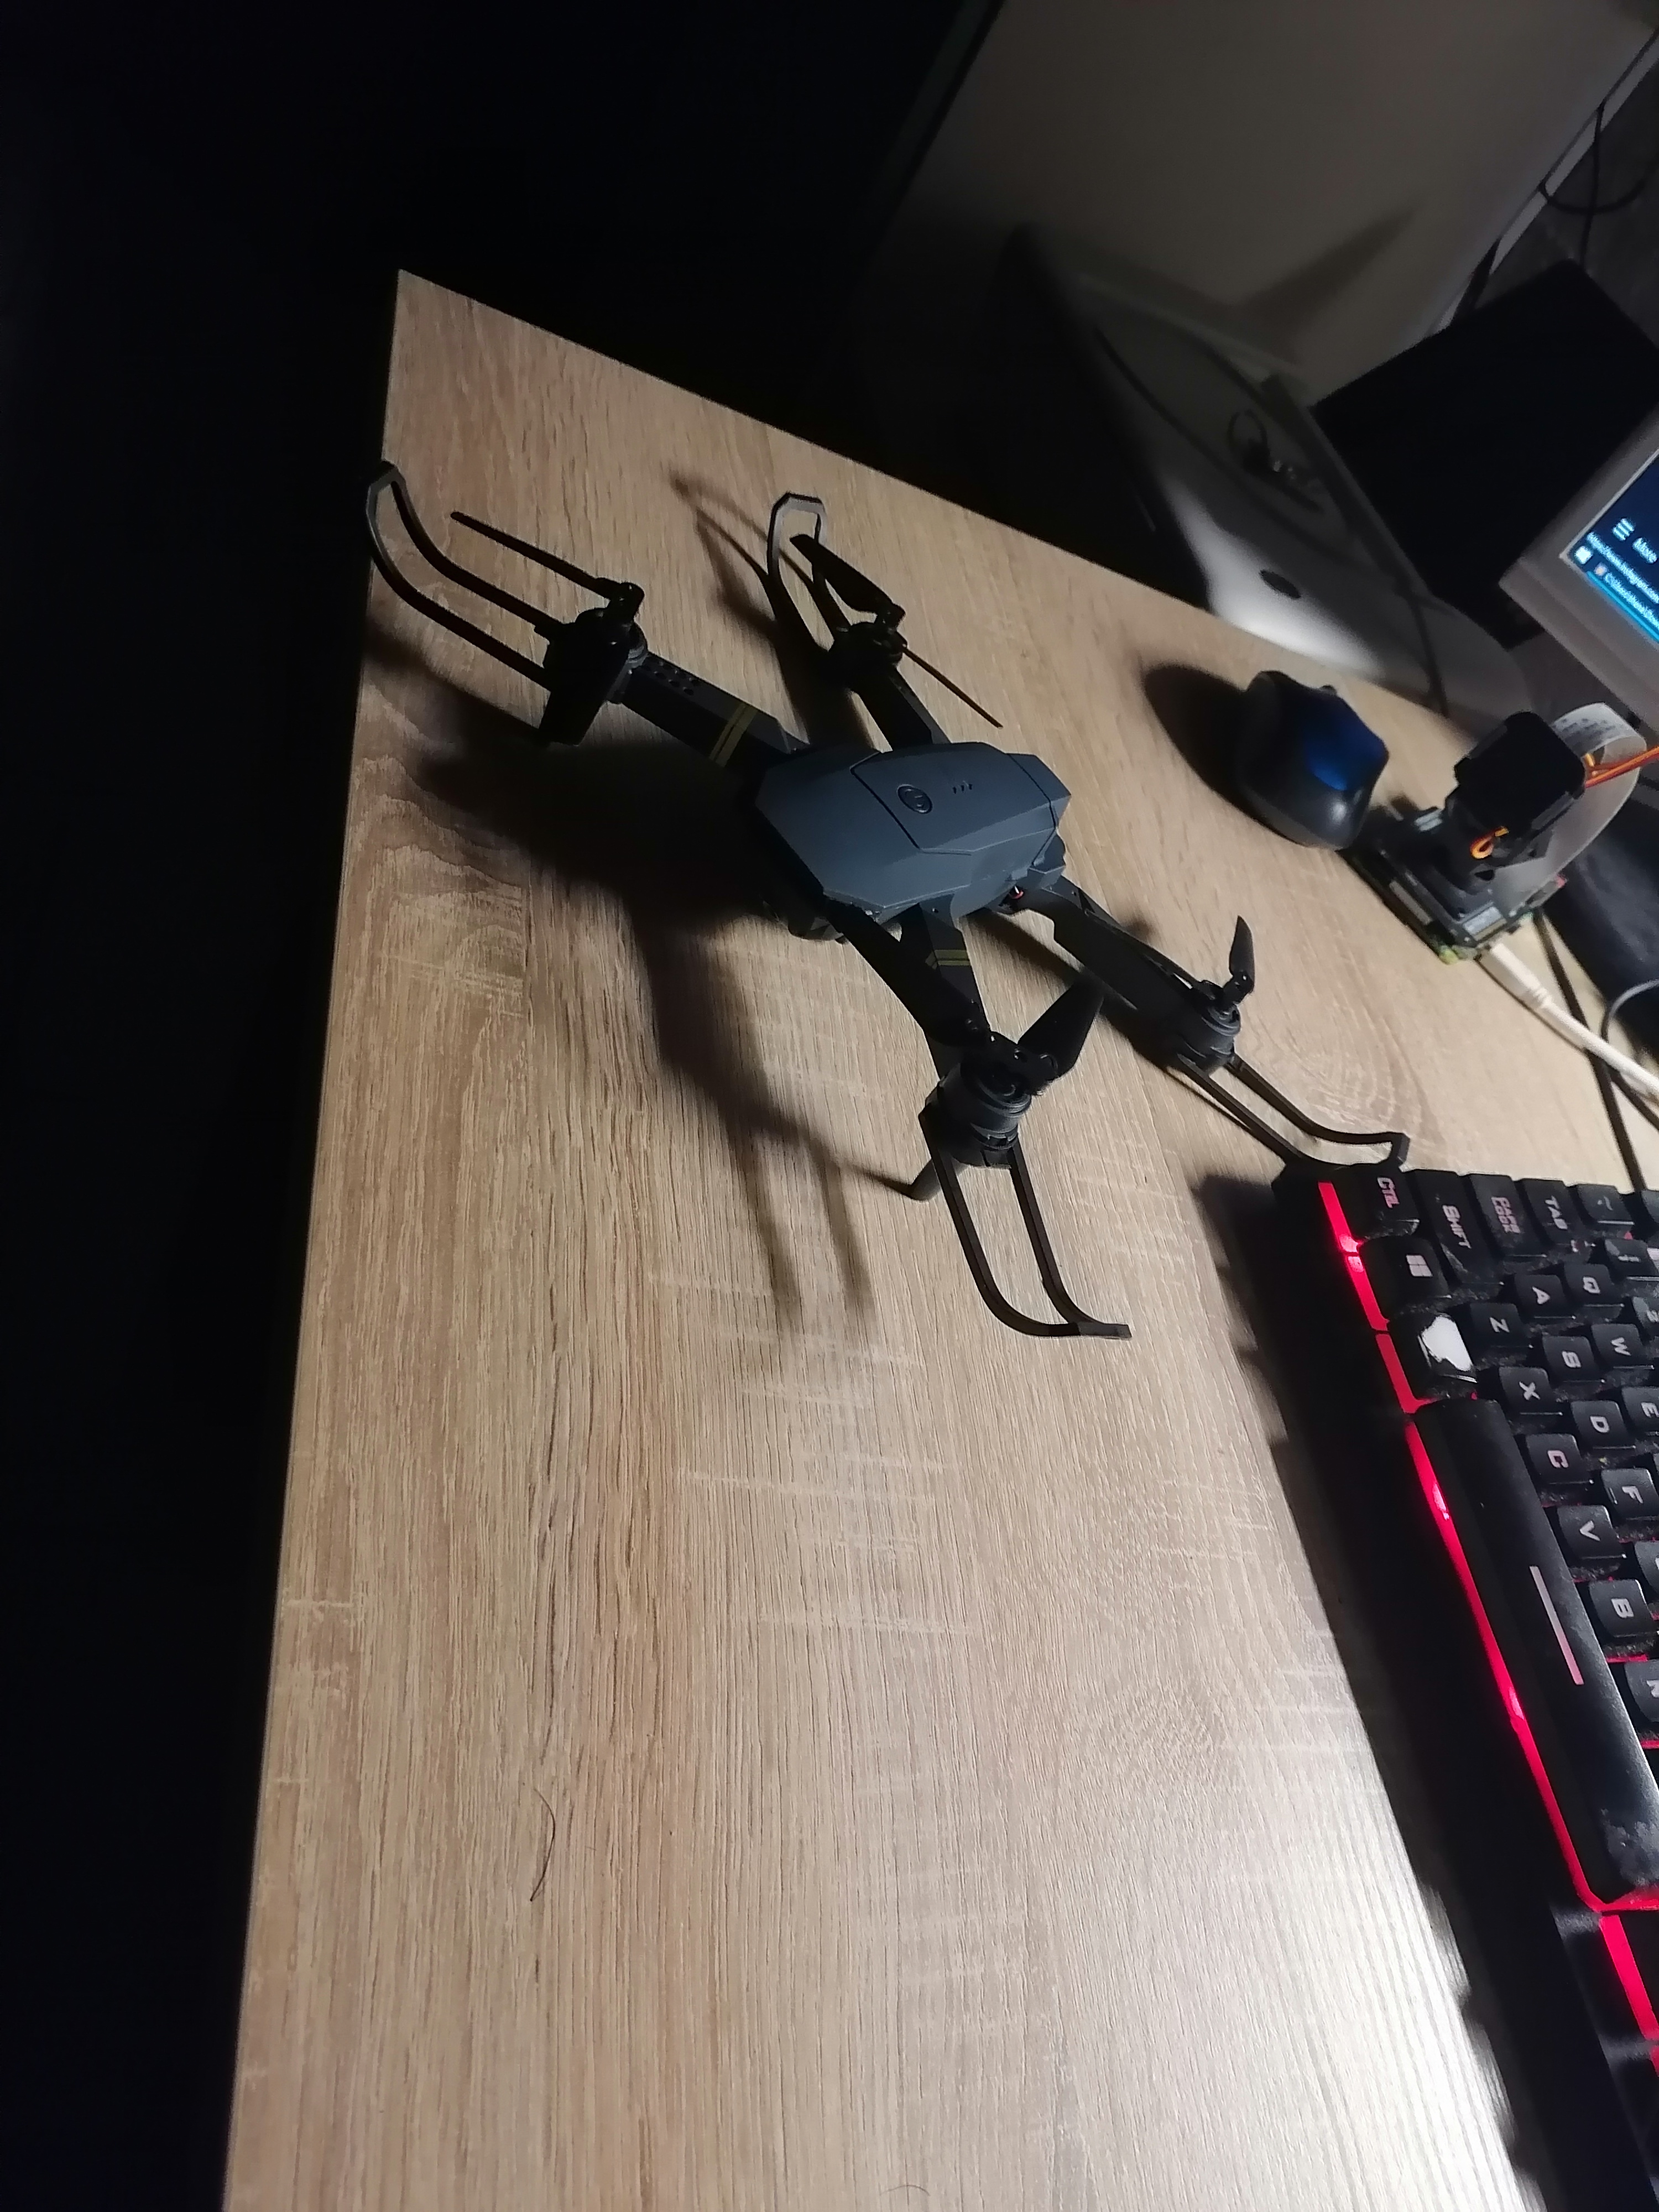drone: (493, 404, 1305, 1334)
